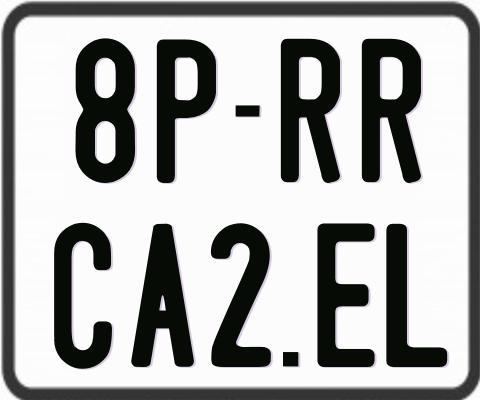2: (209, 221, 269, 370)
8: (75, 38, 137, 188)
A: (131, 224, 195, 367)
C: (51, 221, 115, 373)
E: (314, 222, 378, 371)
L: (385, 223, 446, 368)
P: (154, 37, 219, 182)
R: (361, 37, 424, 181), (280, 38, 340, 182)
